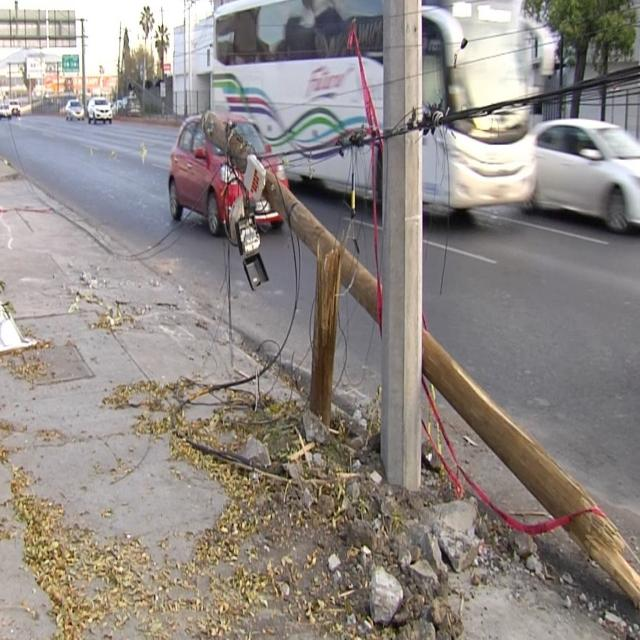Inclined Pole: (197, 107, 640, 599)
